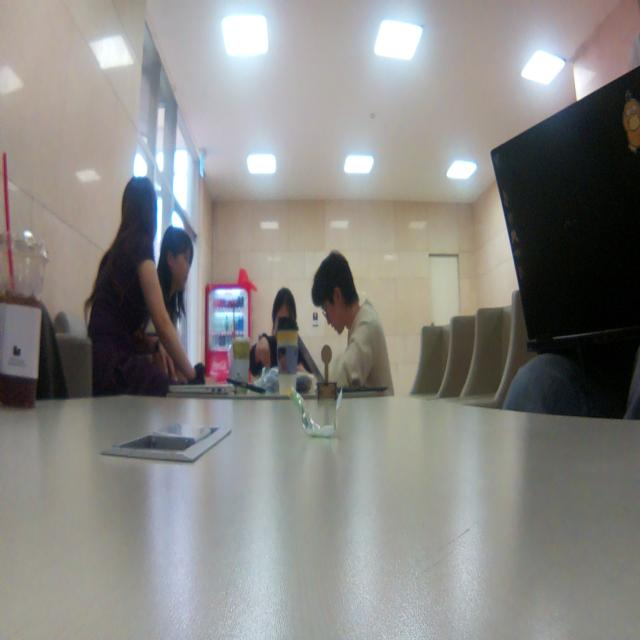target: (317, 343, 338, 400)
